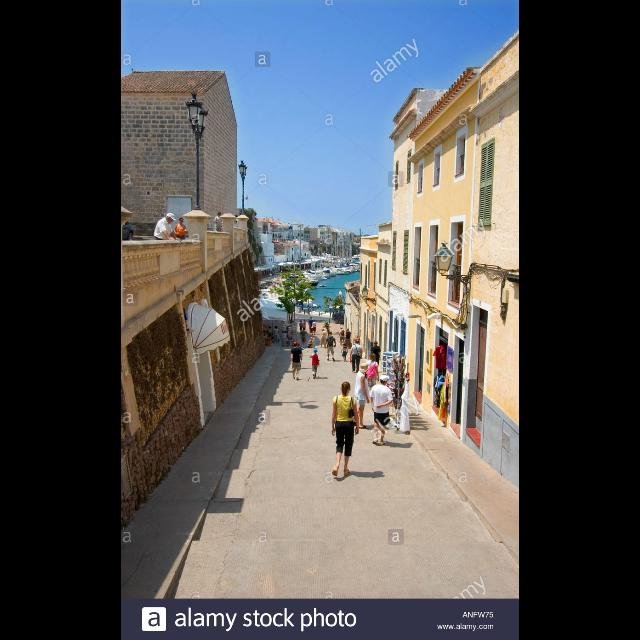head: (342, 382, 352, 396), (166, 212, 174, 224), (381, 374, 389, 386), (362, 365, 370, 373), (178, 218, 184, 224), (374, 340, 380, 346), (370, 355, 376, 361), (218, 212, 222, 218), (294, 341, 298, 347), (297, 343, 301, 347), (314, 349, 318, 353), (329, 332, 333, 336), (356, 339, 360, 343), (300, 321, 304, 324), (356, 334, 359, 338), (322, 330, 326, 332), (328, 330, 332, 332), (348, 328, 350, 332), (344, 344, 348, 346), (276, 326, 278, 329), (311, 317, 313, 319), (314, 320, 316, 322), (304, 320, 306, 322), (341, 328, 343, 330), (314, 338, 316, 340), (312, 338, 314, 340), (304, 328, 306, 330)
person: (332, 380, 361, 478), (368, 373, 394, 447), (153, 212, 183, 276), (350, 362, 370, 431), (364, 353, 381, 397), (174, 214, 188, 266), (290, 341, 304, 382), (350, 338, 364, 374), (324, 331, 338, 363), (215, 210, 227, 246), (371, 340, 384, 372), (309, 348, 321, 380), (291, 342, 309, 361), (299, 327, 309, 348), (338, 326, 348, 346), (340, 343, 350, 362), (344, 328, 352, 350), (353, 334, 361, 356), (320, 328, 328, 348), (308, 316, 316, 334), (306, 336, 316, 350), (274, 325, 280, 345), (326, 328, 332, 348), (312, 318, 318, 336), (298, 318, 304, 334), (302, 319, 308, 335), (311, 338, 317, 350)
